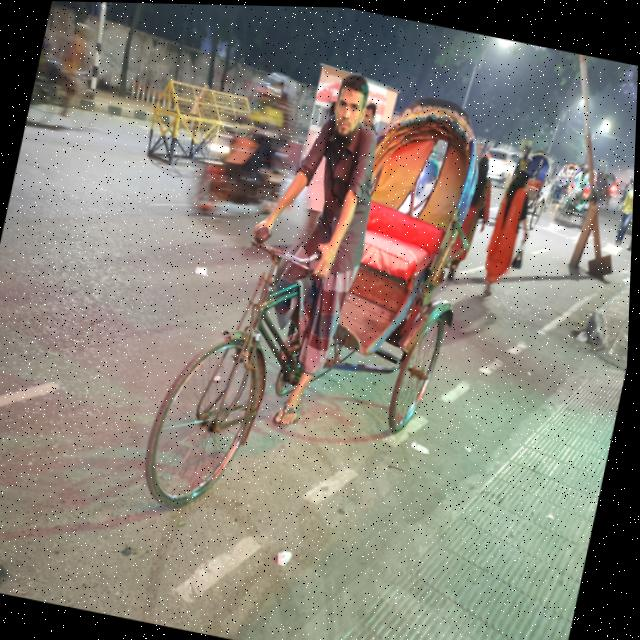rikshaw: (95, 50, 506, 572)
